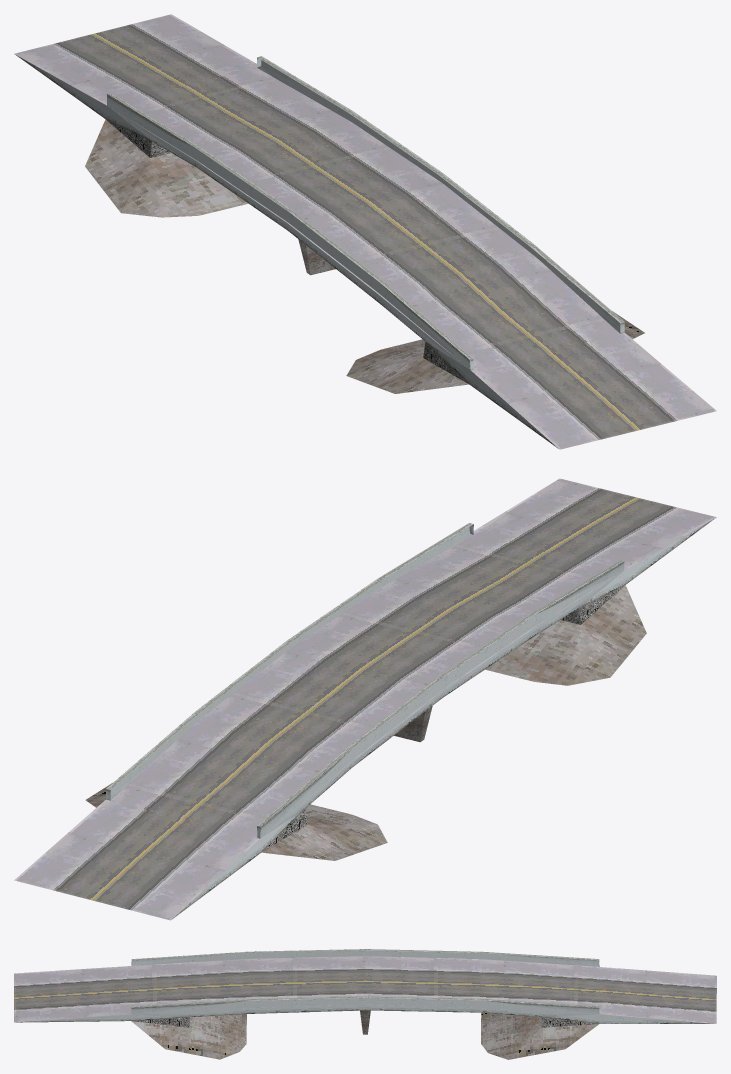
The model's file is lodaseroad048.obj.
3 renders of one model, top to bottom at view 1: azimuth 30°, elevation 25°; view 2: azimuth 150°, elevation 25°; view 3: azimuth 270°, elevation 25°, orthographic. The views are drawn at different scales.
Parts seen in each view (by area): view 1: lodasEroad048; view 2: lodasEroad048; view 3: lodasEroad048.
Boxes of the visible parts, x1,y1,x2,y2 form: lodasEroad048: (14, 14, 716, 449); lodasEroad048: (14, 478, 716, 920); lodasEroad048: (14, 949, 716, 1059).
Bounding box in the file's own units: 33.97 × 8.65 × 120.
Materials: 4 (4 with a texture image).
